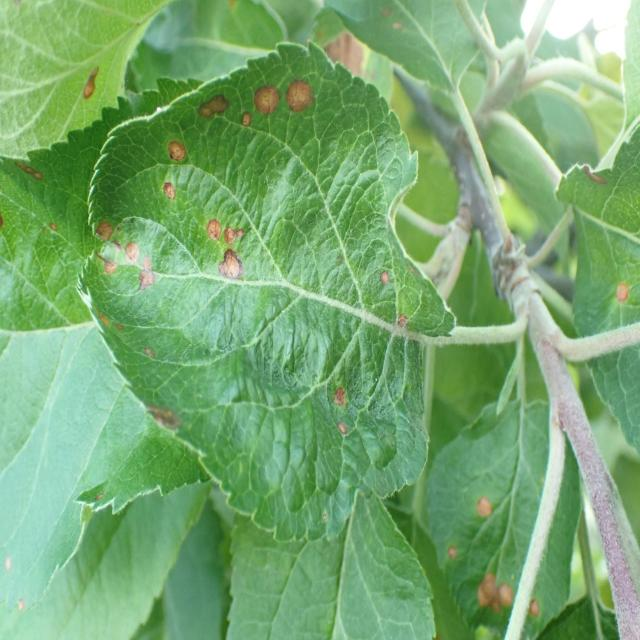Black Rot: (92, 221, 174, 304), (468, 574, 543, 628), (284, 70, 332, 136), (208, 248, 249, 308), (154, 168, 190, 233), (182, 84, 242, 122), (252, 70, 284, 136), (331, 387, 367, 442), (152, 119, 187, 170), (607, 257, 631, 331), (77, 48, 105, 109), (469, 486, 498, 544), (361, 255, 395, 298), (229, 101, 254, 145), (388, 304, 415, 342), (204, 208, 222, 244)
